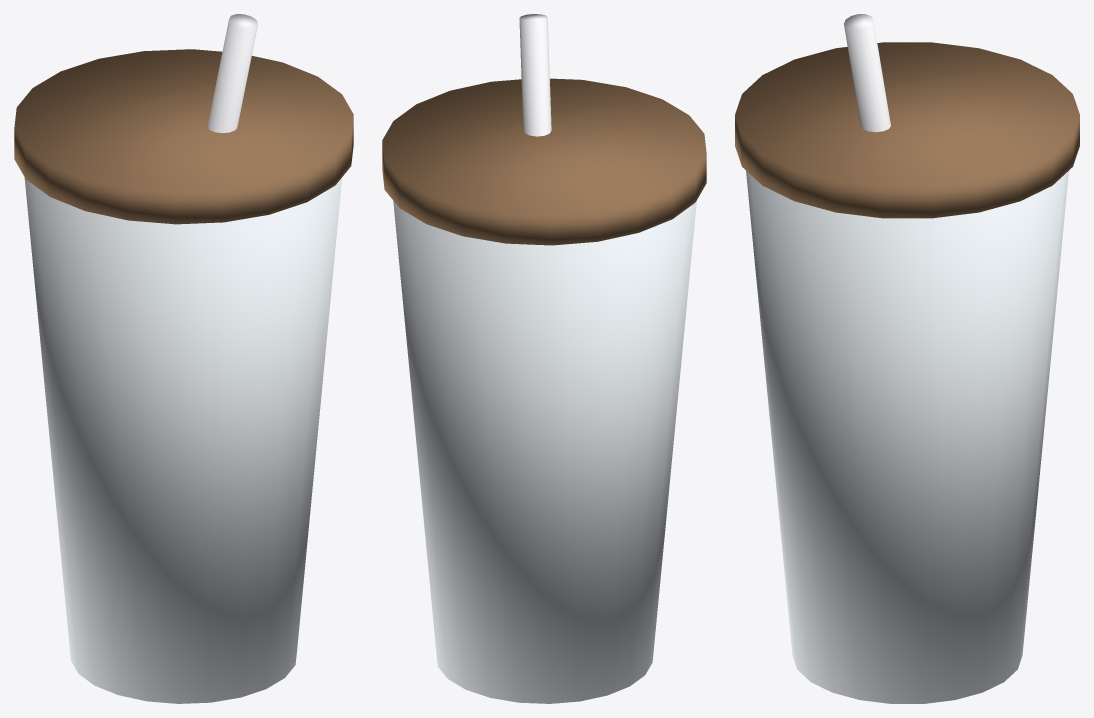
File: kopi_susu.fbx
3 renders of one model, left to right at view 1: azimuth 30°, elevation 25°; view 2: azimuth 150°, elevation 25°; view 3: azimuth 270°, elevation 25°, orthographic. The views are drawn at different scales.
Visible parts, largest first — view 1: kopi_susu; view 2: kopi_susu; view 3: kopi_susu.
Boxes of the visible parts, x1=… form: kopi_susu: x1=14, y1=14, x2=353, y2=703; kopi_susu: x1=382, y1=14, x2=706, y2=703; kopi_susu: x1=735, y1=14, x2=1079, y2=703.
Bounding box in the file's own units: 13.66 × 28.87 × 13.8.
1 material, 1 textured.
